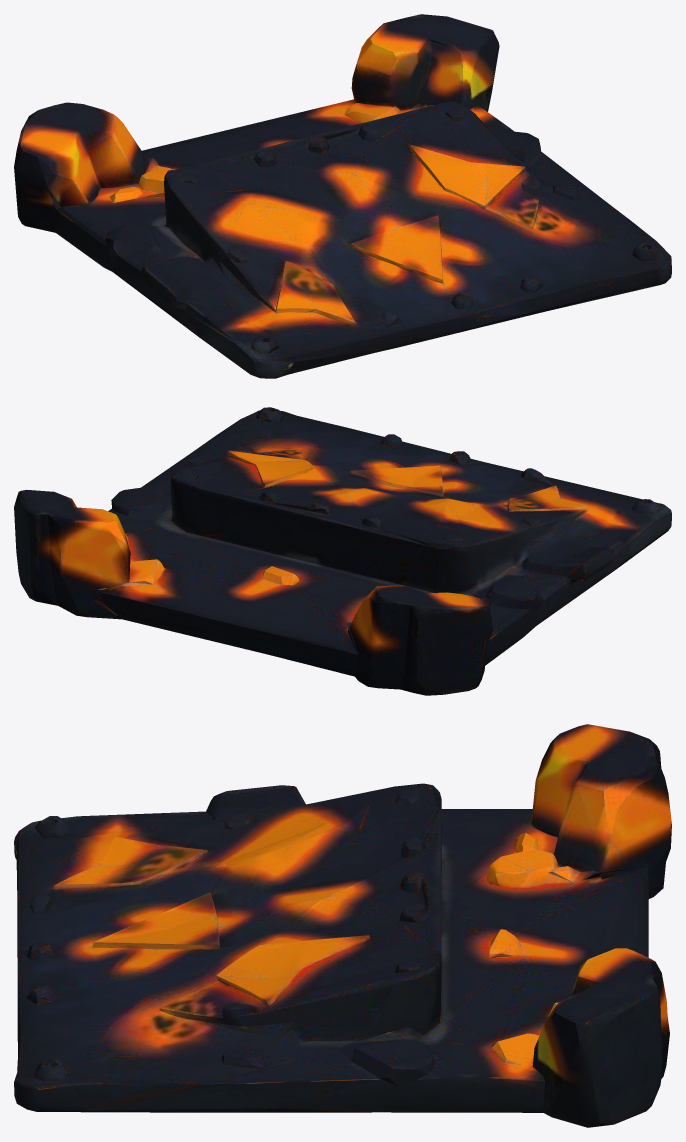
File: boost-pad.lod.glb
The picture shows the model from 3 angles, top to bottom: view 1: azimuth 30°, elevation 25°; view 2: azimuth 150°, elevation 25°; view 3: azimuth 270°, elevation 25°; orthographic projection. The views are drawn at different scales.
Bounding box in the file's own units: 1.9 × 0.3459 × 1.71.
1 material, 1 textured.
